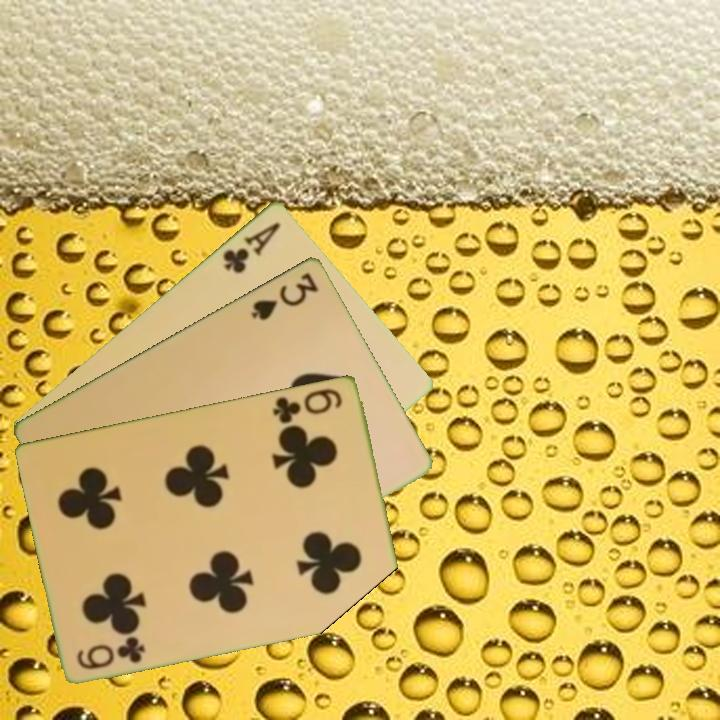3s: (247, 268, 322, 323)
6c: (269, 384, 346, 426), (74, 633, 149, 672)
Ac: (219, 218, 284, 276)
